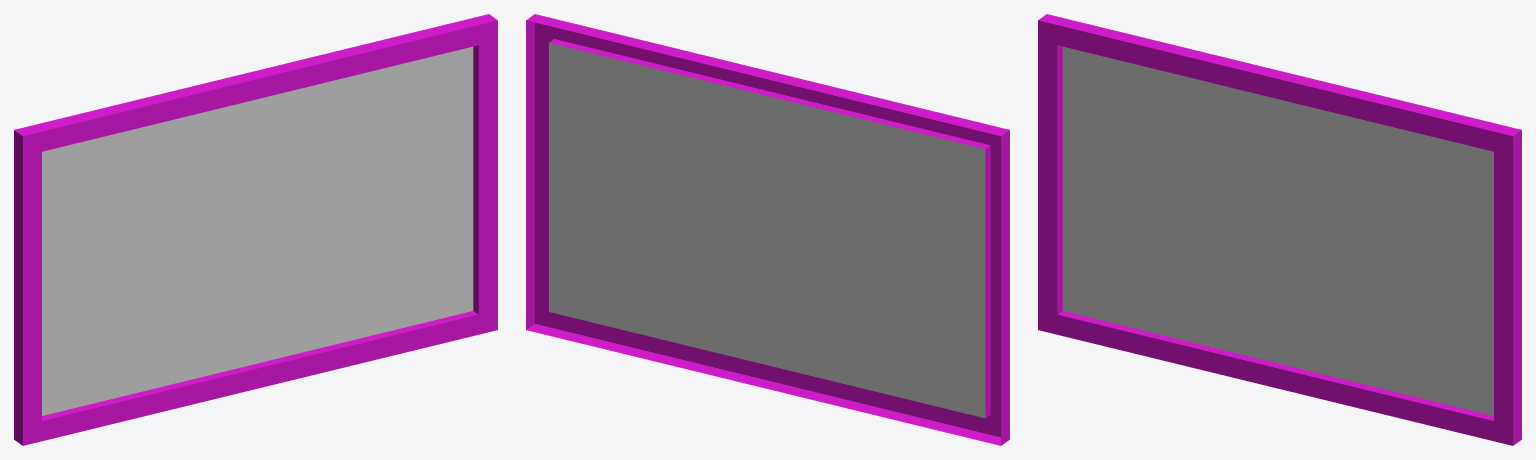
File: propsMaison_cadre.fbx
3 renders of one model, left to right at view 1: azimuth 30°, elevation 25°; view 2: azimuth 150°, elevation 25°; view 3: azimuth 330°, elevation 25°, orthographic.
Parts seen in each view (by area): view 1: Plane.001; view 2: Plane.001; view 3: Plane.001.
Part boxes in pixels (x1=…): Plane.001: x1=14, y1=14, x2=497, y2=445; Plane.001: x1=526, y1=14, x2=1009, y2=445; Plane.001: x1=1038, y1=14, x2=1521, y2=445.
Bounding box in the file's own units: 433 × 270 × 13.79.
